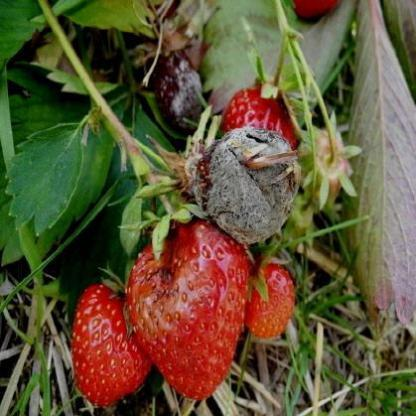Strawberry_Gray_Mold: (151, 127, 301, 246), (160, 51, 204, 127)
